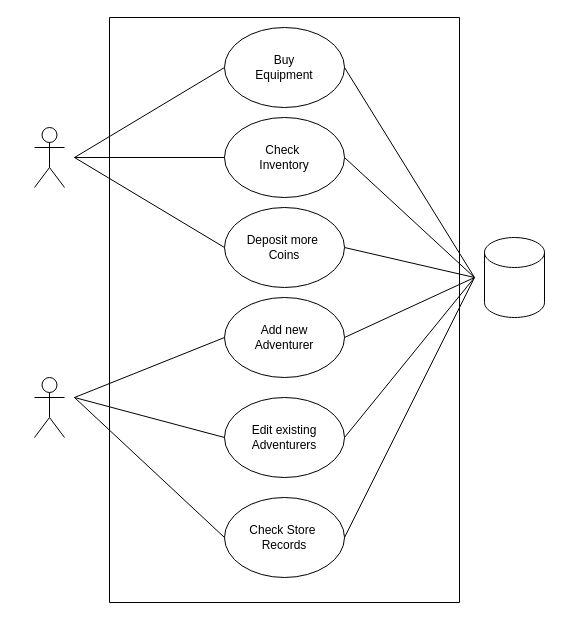
This 562x620 diagram has some shape labels left out. Each missing label, with the centre of its shape:
Adventurer: point 49,157
Store: point 514,277
Store Admin: point 49,407
